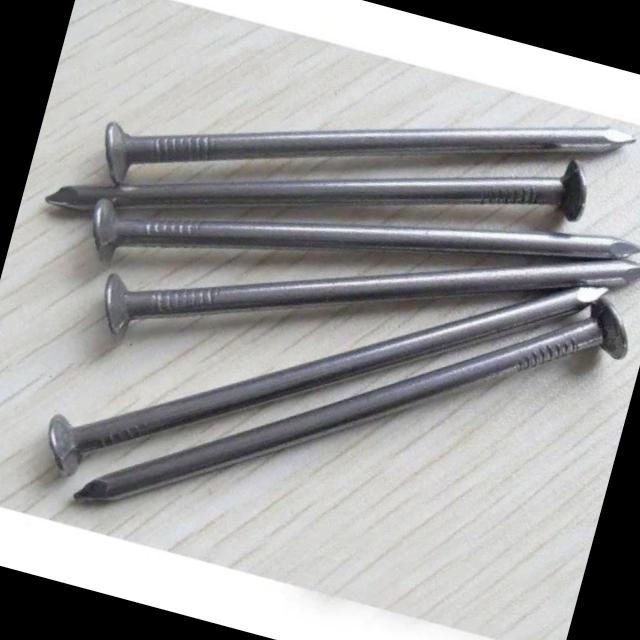3x10 nail: (0, 136, 640, 640), (79, 0, 640, 316)
